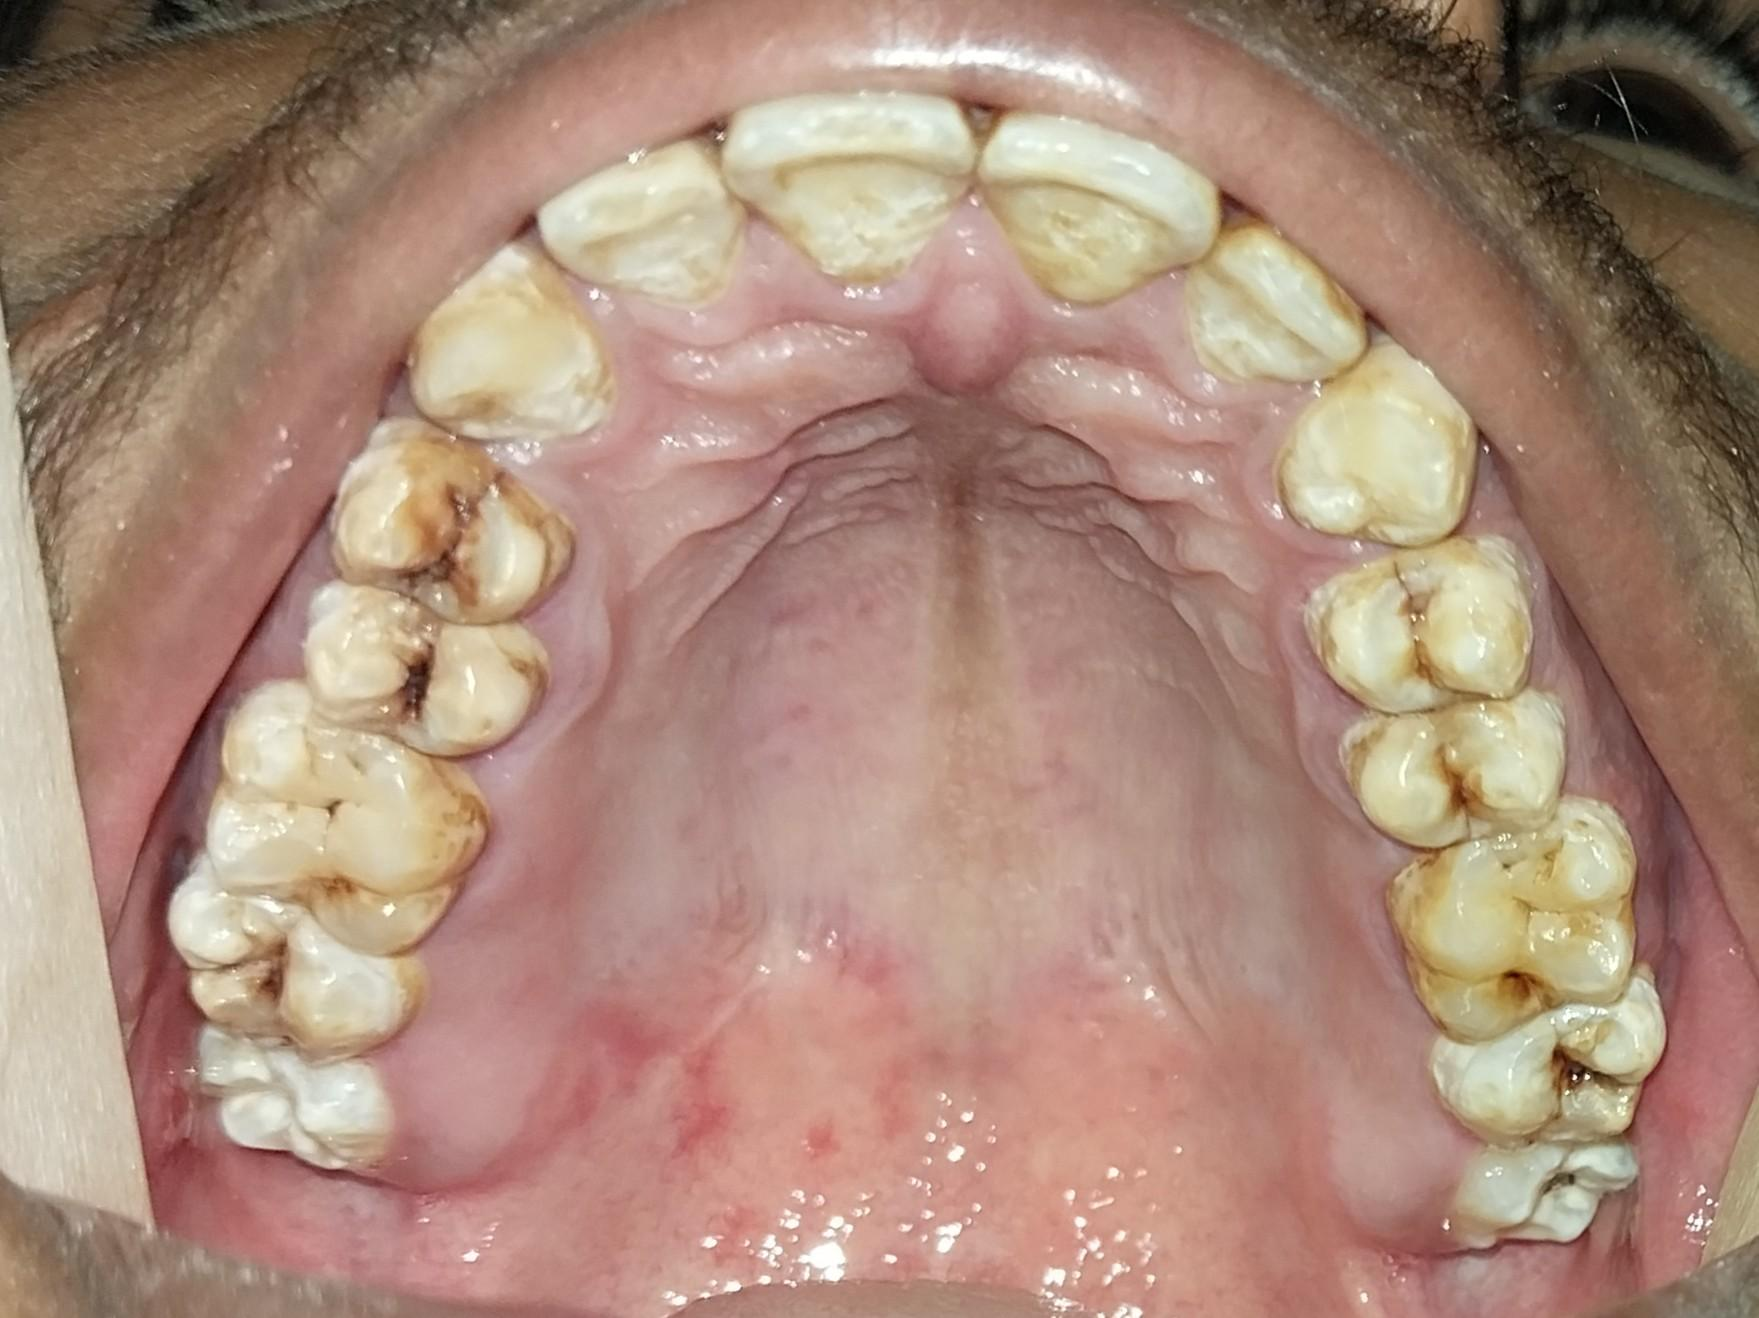D: (206, 681, 475, 952), (1392, 801, 1652, 1025), (159, 867, 419, 1059), (319, 430, 568, 625), (292, 579, 548, 761), (1301, 565, 1543, 714), (1337, 701, 1579, 847), (1423, 1005, 1663, 1139), (1441, 1116, 1648, 1259)
